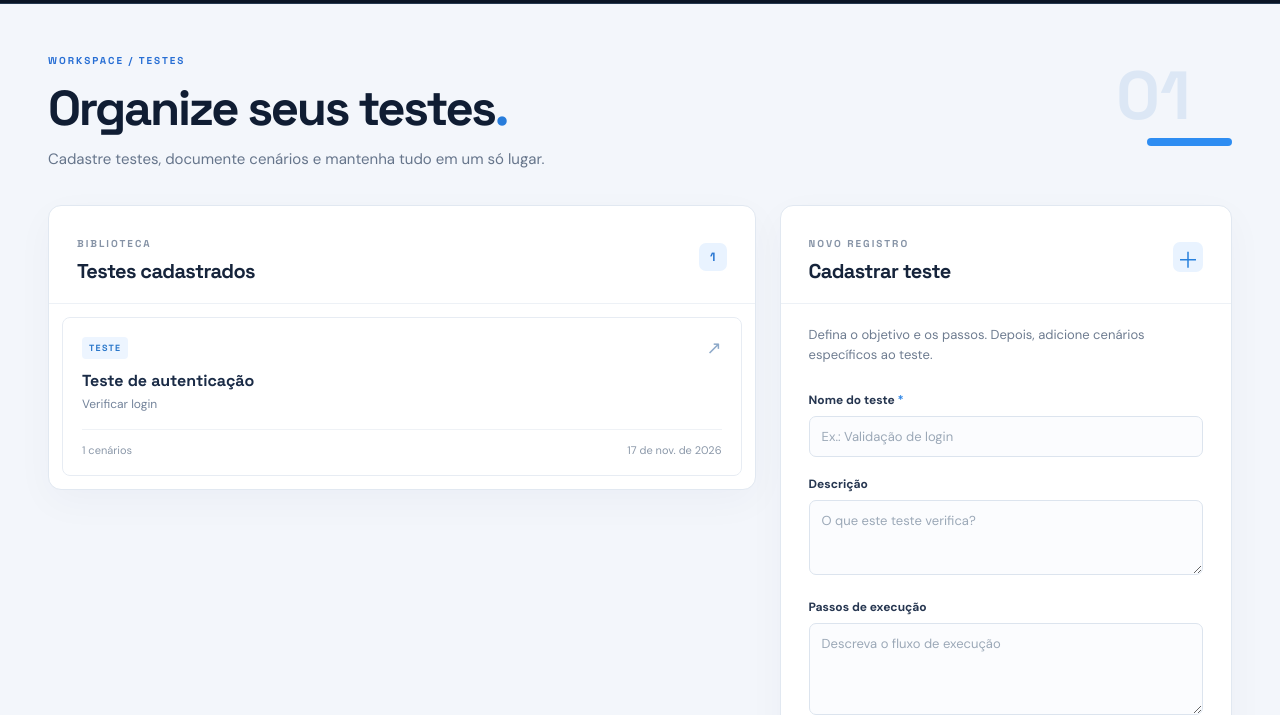
it: TES-55/56/61/62: execução manual e histórico › finaliza como aprovado e atualiza o resultado na listagem
Click the button "Teste de autenticação" at (105, 348), box top-left (62, 317), bottom-right (742, 476)
(page scrolled)
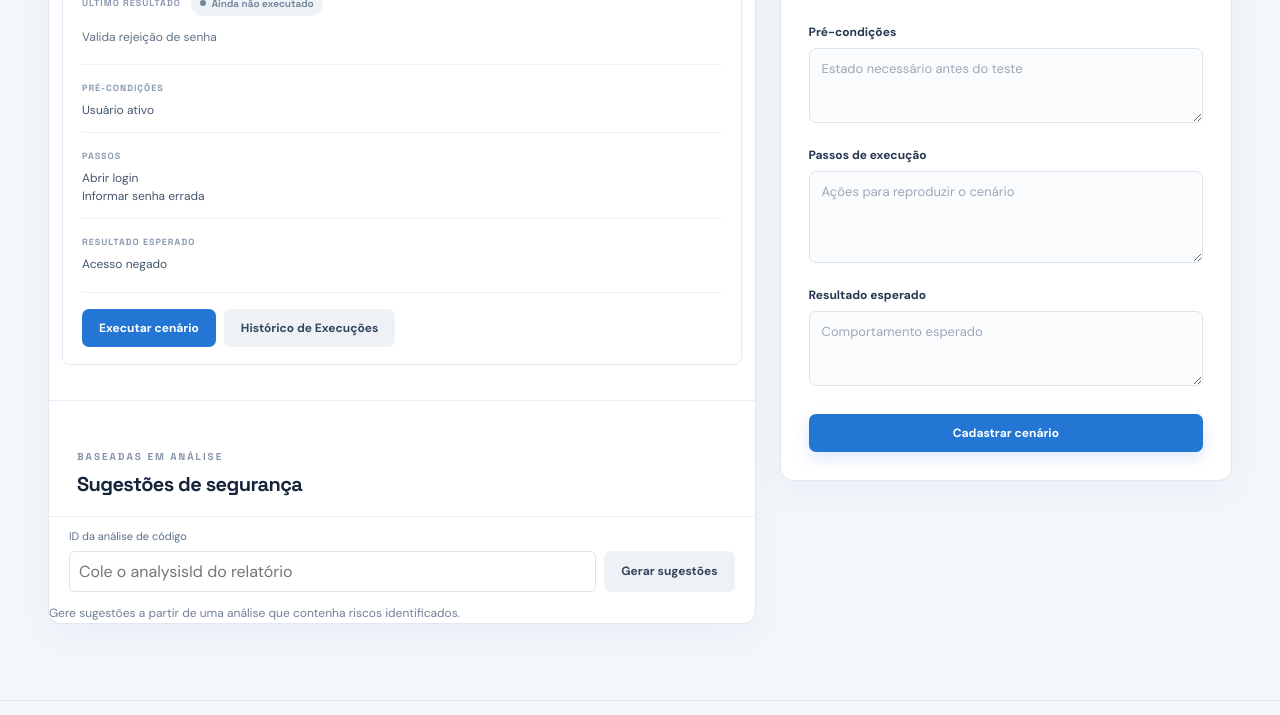
Click the button "Executar cenário" at (149, 328), box top-left (82, 309), bottom-right (216, 347)
(page scrolled)
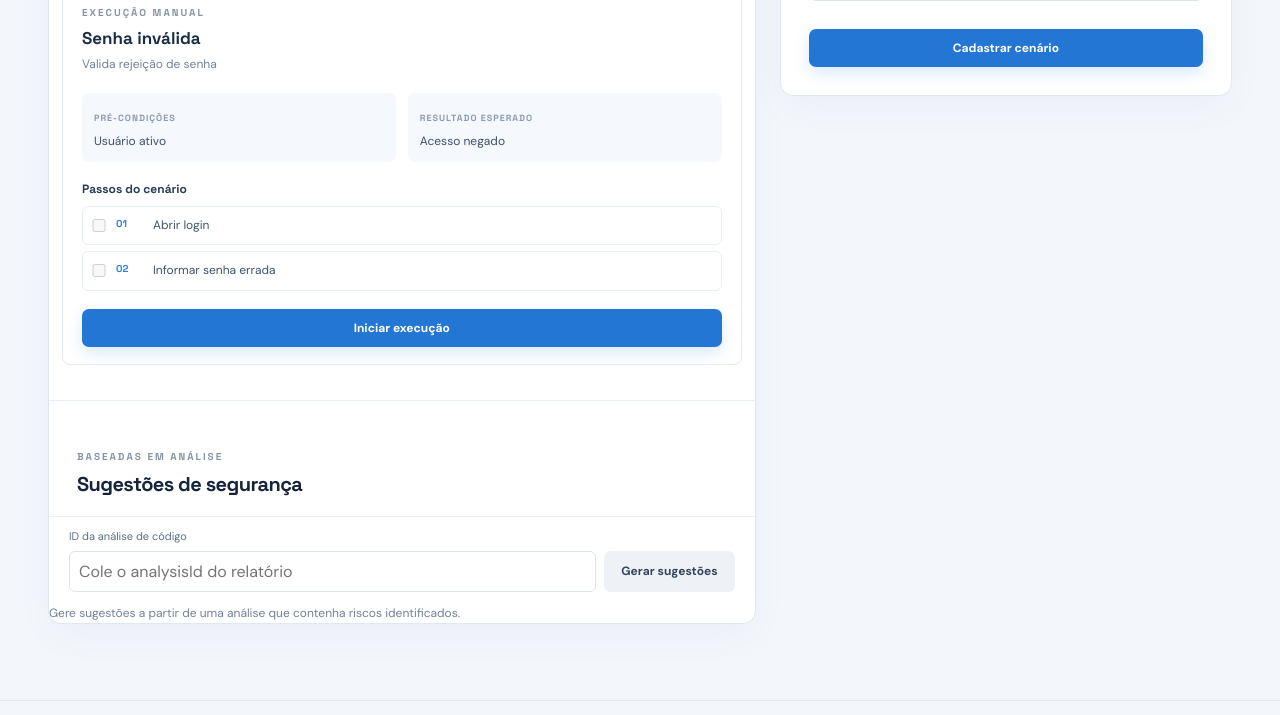
Click the button "Iniciar execução" at (402, 328), box top-left (82, 308), bottom-right (722, 346)
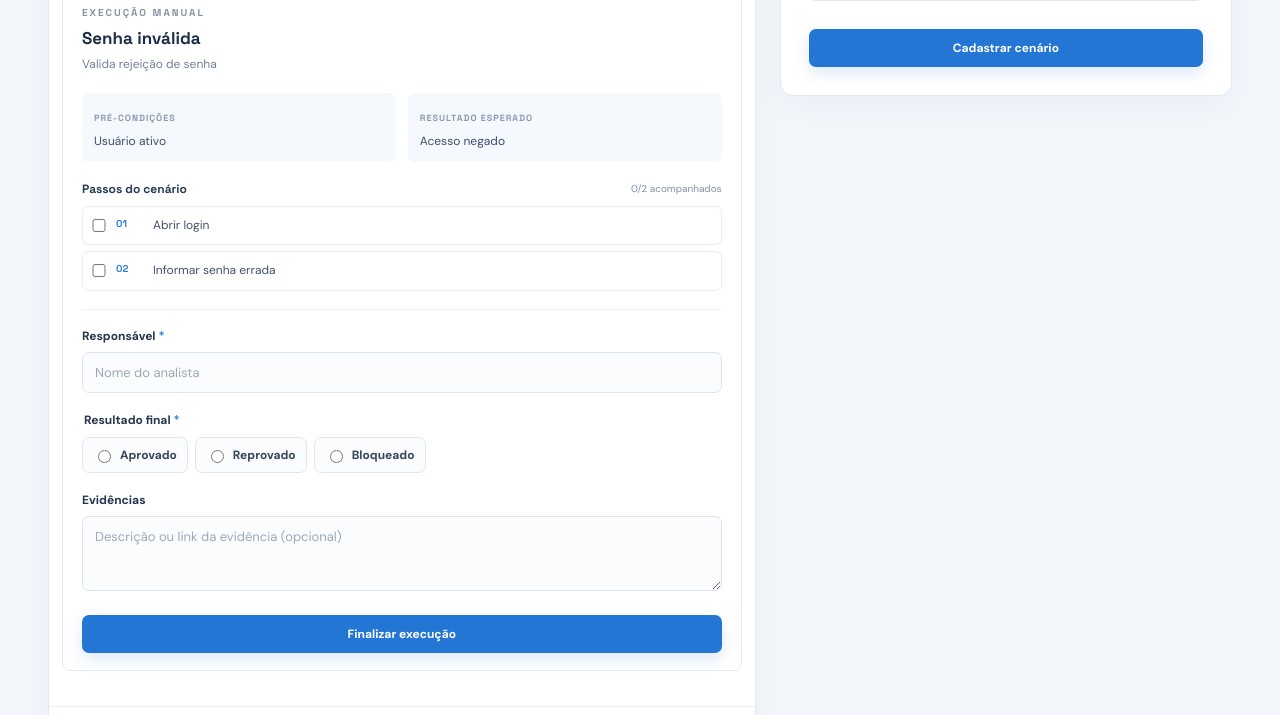
expect the field labelled "Responsável *" is shown: met
Type "Ana QA" into the field labelled "Responsável *" at (402, 372), box top-left (82, 352), bottom-right (722, 392)
Click the radio button labelled "Aprovado" at (104, 456), box top-left (98, 450), bottom-right (111, 462)
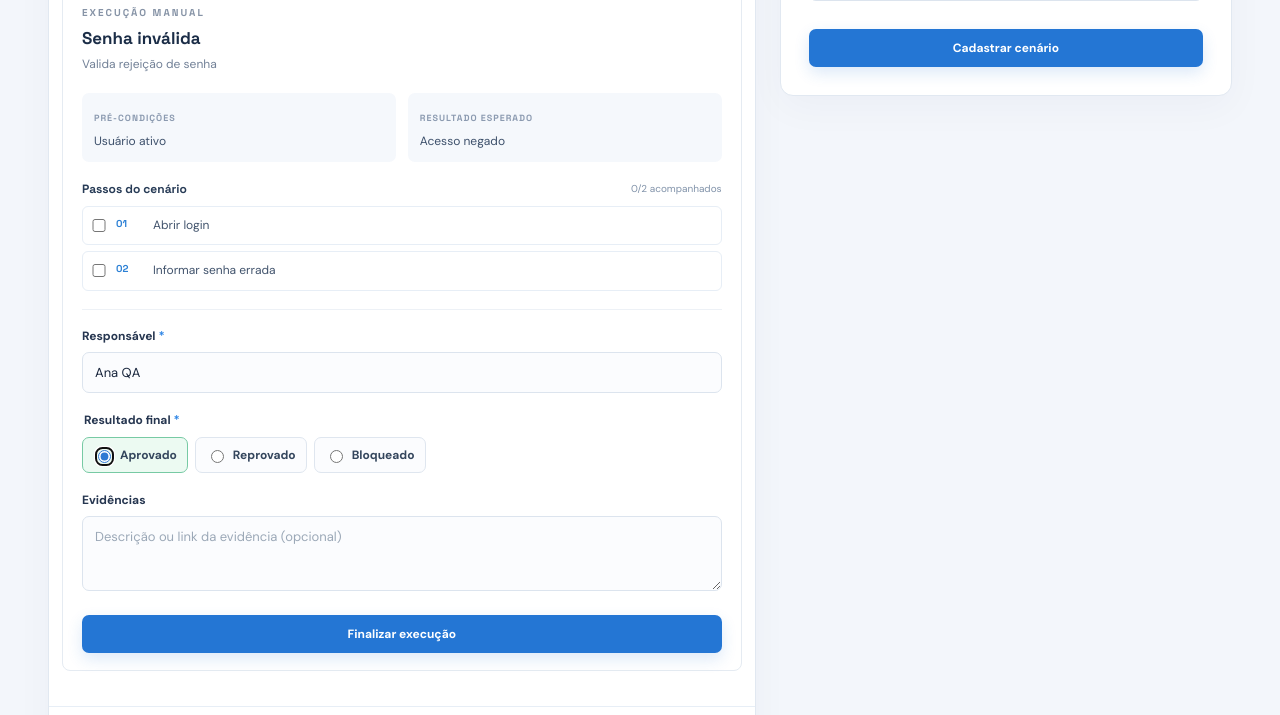
Type "Captura" into the text box labelled "Evidências" at (402, 553), box top-left (82, 516), bottom-right (722, 590)
Click the button "Finalizar execução" at (402, 634), box top-left (82, 614), bottom-right (722, 652)
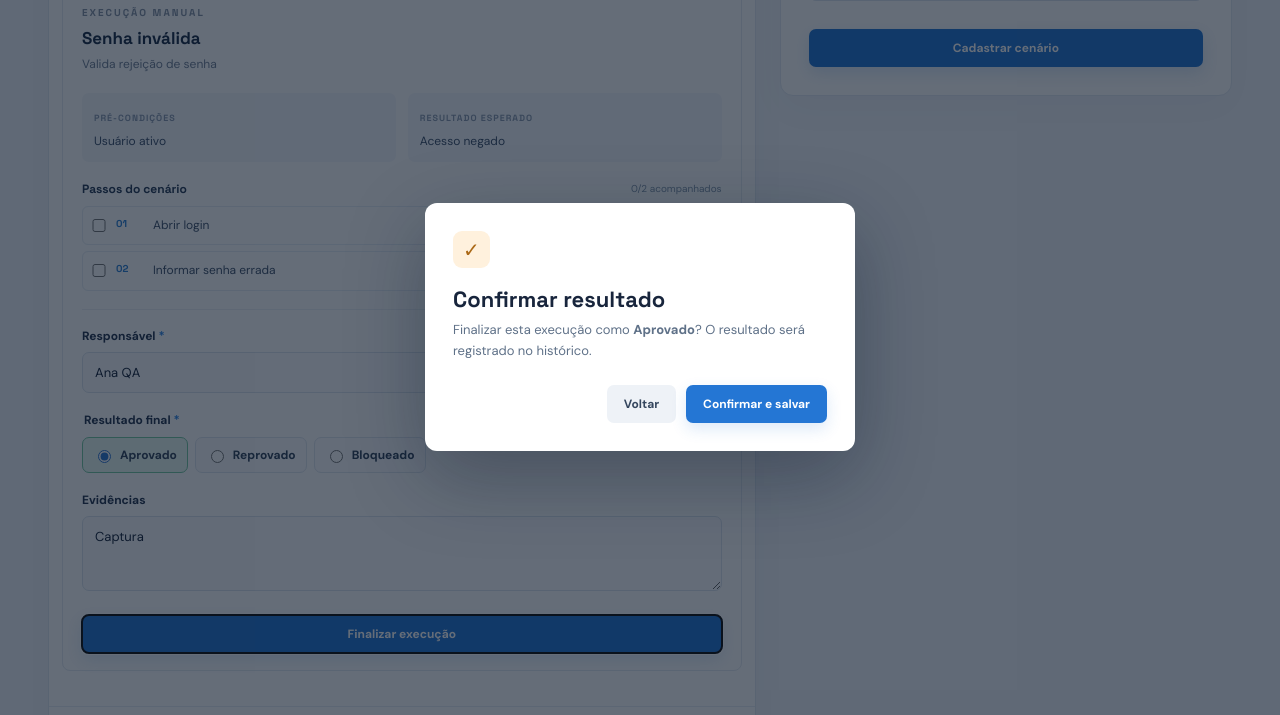
expect the text "Finalizar esta execução" is shown: met, box top-left (453, 321), bottom-right (633, 338)
Click the button "Confirmar e salvar" at (757, 404), box top-left (686, 385), bottom-right (827, 423)
(page scrolled)
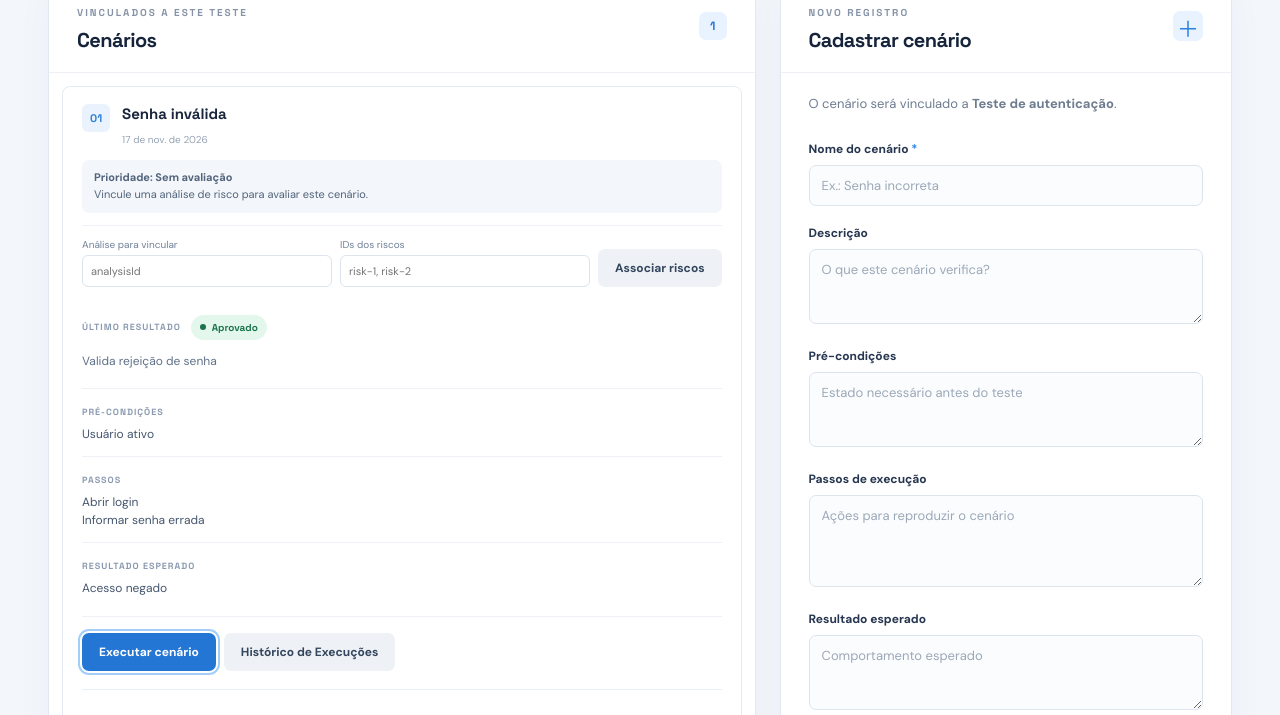
expect the text "Aprovado" is shown: met, box top-left (191, 315), bottom-right (267, 340)
